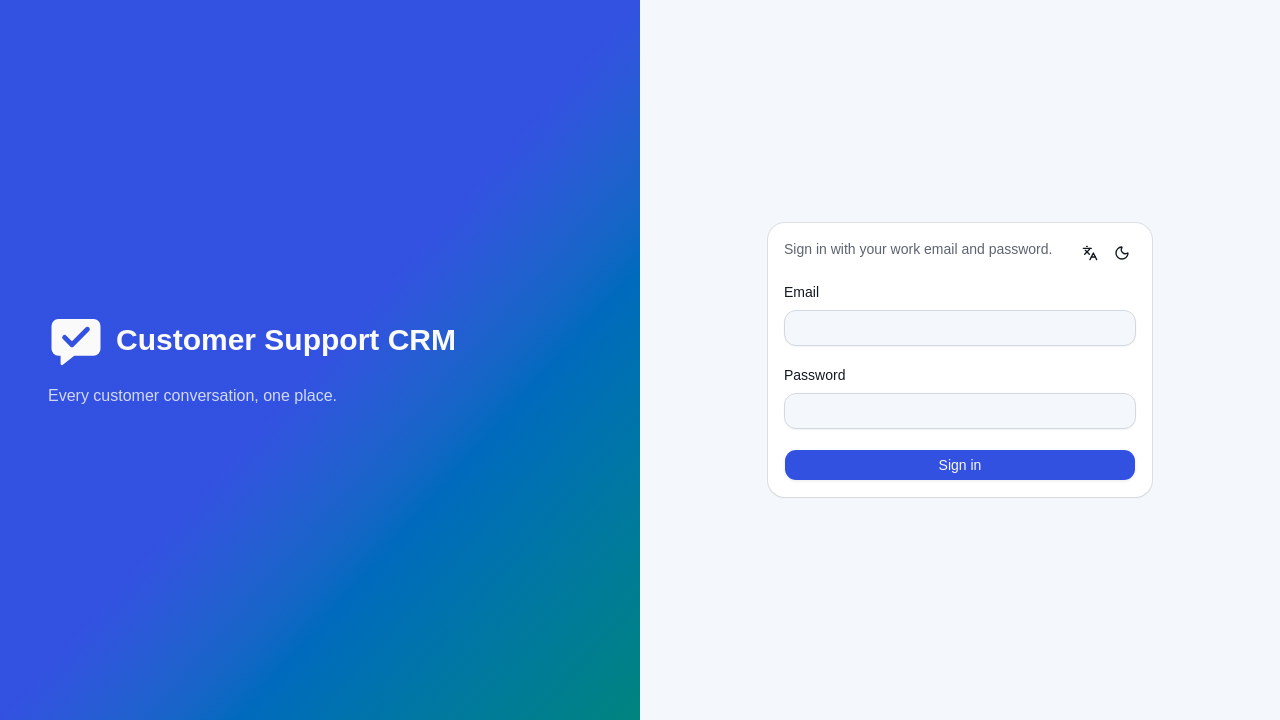
Test case: Language switching (ar / en) › shows no English text on the Arabic login page, field errors included
expect the form "Sign in" is shown: met, box [784,283,1136,481]
Click the button named "العربية" at (1090, 253), box [1076,239,1104,267]
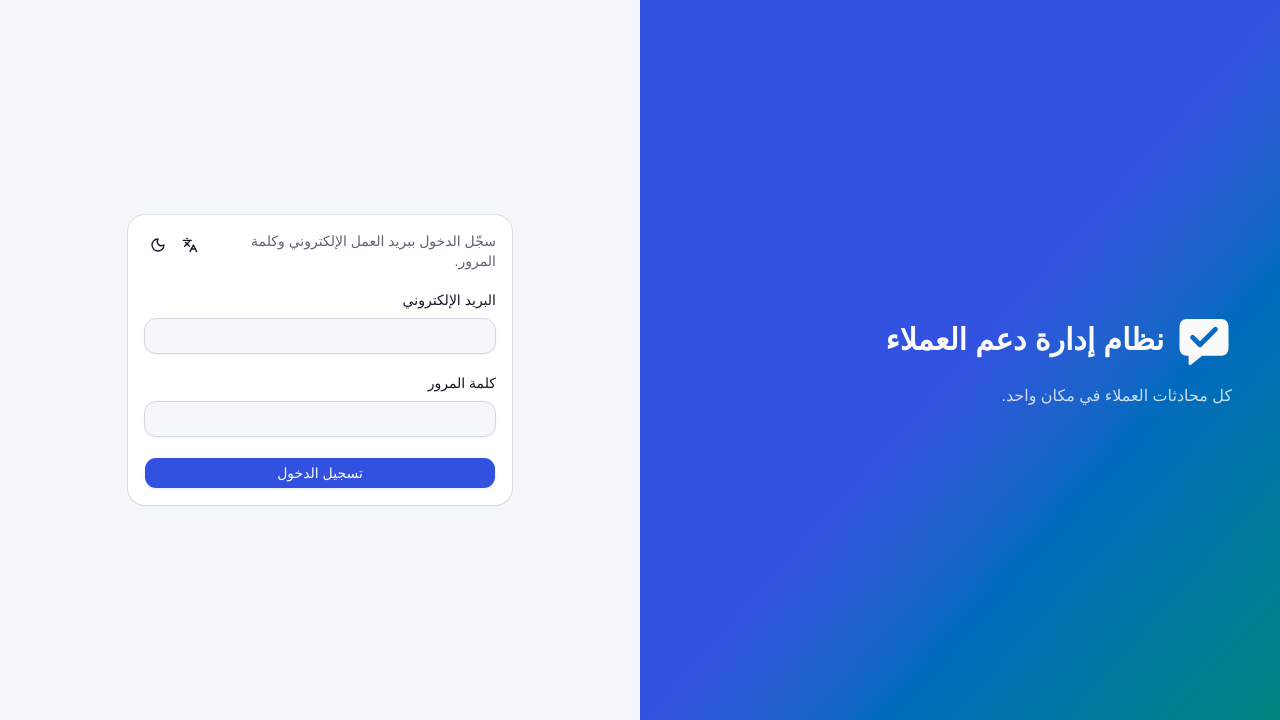
expect the form "تسجيل الدخول" is shown: met, box [144,291,496,489]
Click the button "تسجيل الدخول" at (320, 473), box [144,457,496,489]
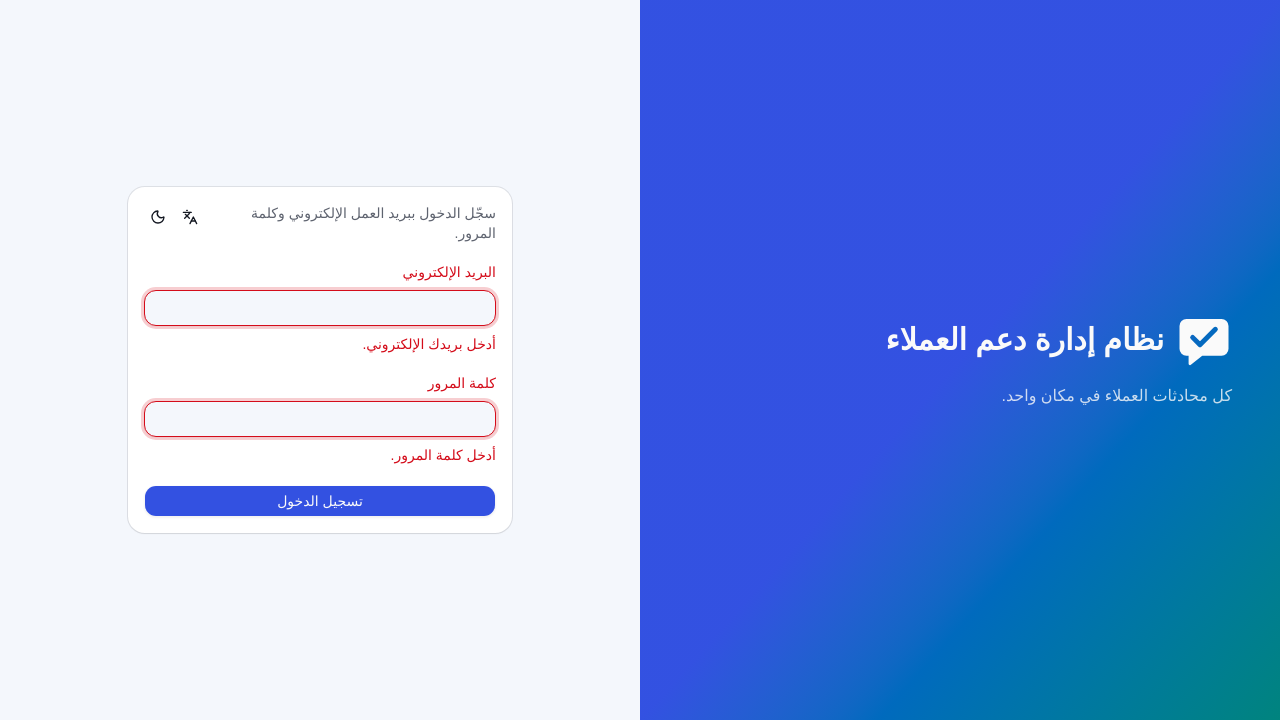
expect the text "أدخل بريدك الإلكتروني." is shown: met, box [362,336,496,352]
expect the text "أدخل كلمة المرور." is shown: met, box [390,447,496,463]
